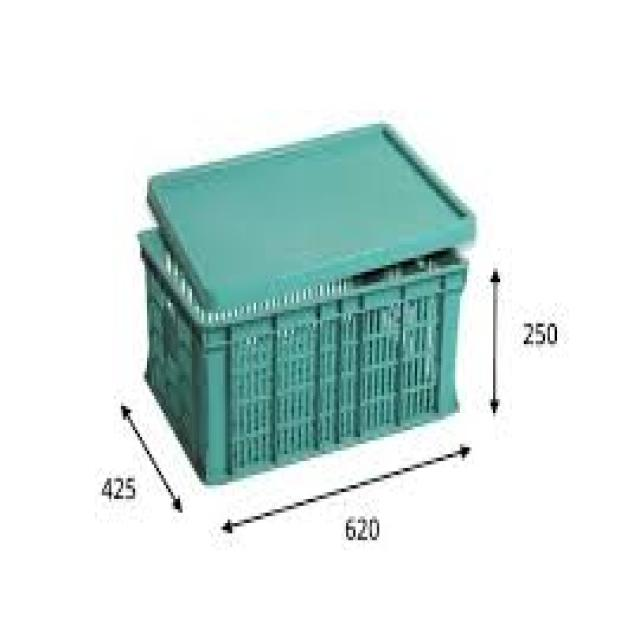basket: (91, 90, 530, 496)
